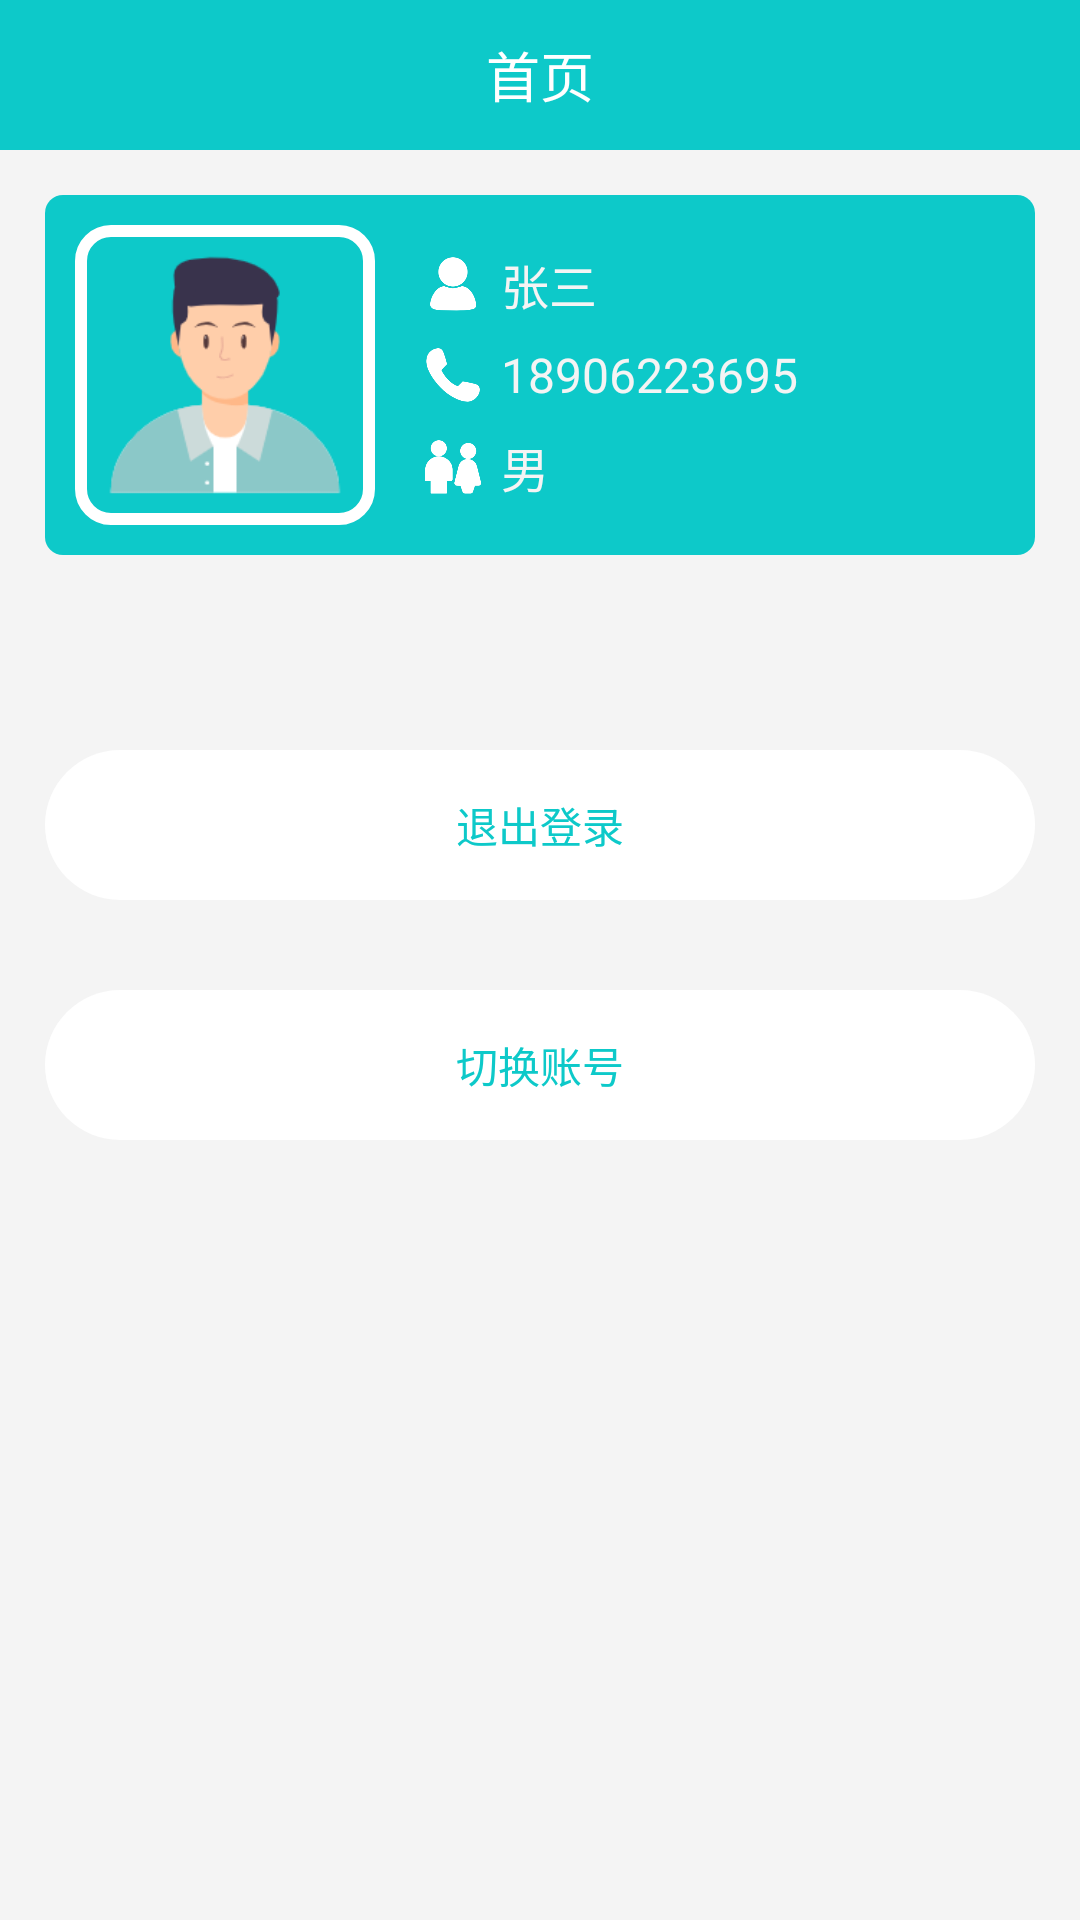

Icon bounding boxes for this 1080w x 1920h phone screenshot, format [x1,y1,x2,y2]:
info: [430,257,476,311]
phone: [426,348,480,402]
sex: [425,440,481,494]
